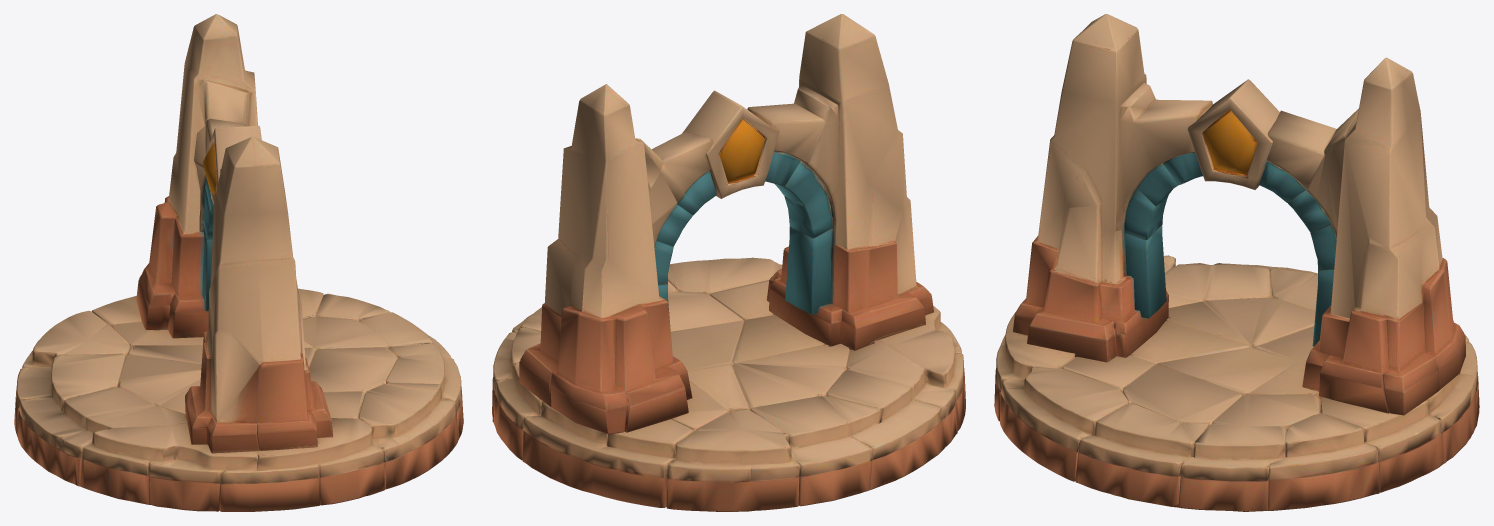
The model's file is twin-pact-gate-1024.glb.
3 views of the same model, side by side, from view 1: azimuth 30°, elevation 25°; view 2: azimuth 150°, elevation 25°; view 3: azimuth 270°, elevation 25° (orthographic). The views are drawn at different scales.
Visible parts, largest first — view 1: tripo_node_371dbf64-8ee1-48a1-817e-9650f35a21f0; view 2: tripo_node_371dbf64-8ee1-48a1-817e-9650f35a21f0; view 3: tripo_node_371dbf64-8ee1-48a1-817e-9650f35a21f0.
Boxes of the visible parts, <box> form: tripo_node_371dbf64-8ee1-48a1-817e-9650f35a21f0: <box>14,14,463,511</box>; tripo_node_371dbf64-8ee1-48a1-817e-9650f35a21f0: <box>492,14,965,511</box>; tripo_node_371dbf64-8ee1-48a1-817e-9650f35a21f0: <box>994,14,1479,511</box>.
Bounding box in the file's own units: 1 × 0.8613 × 1.
Materials: 1 (1 with a texture image).
